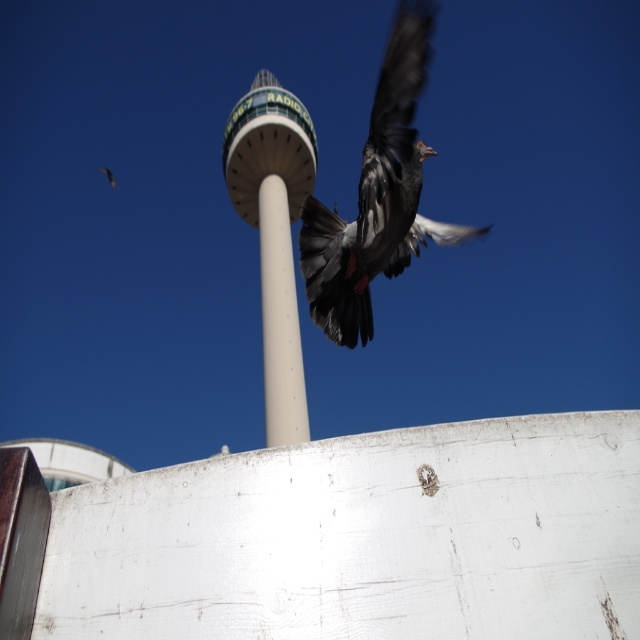Eagle: (298, 0, 496, 350)
